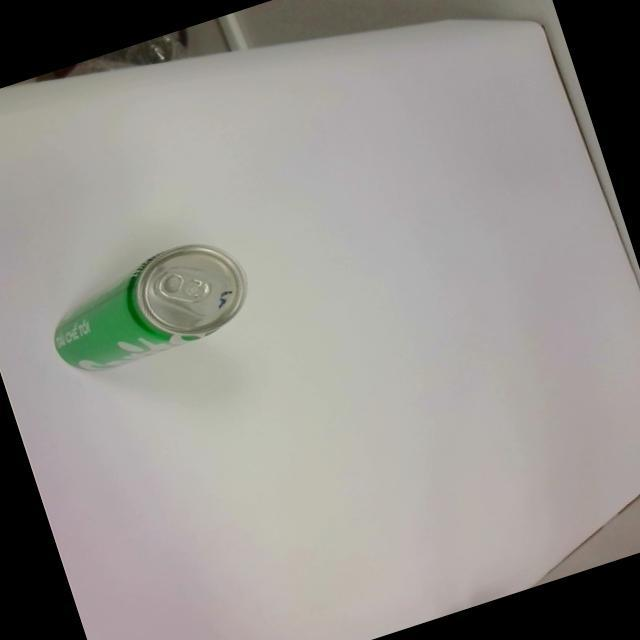debris: (36, 226, 263, 384)
